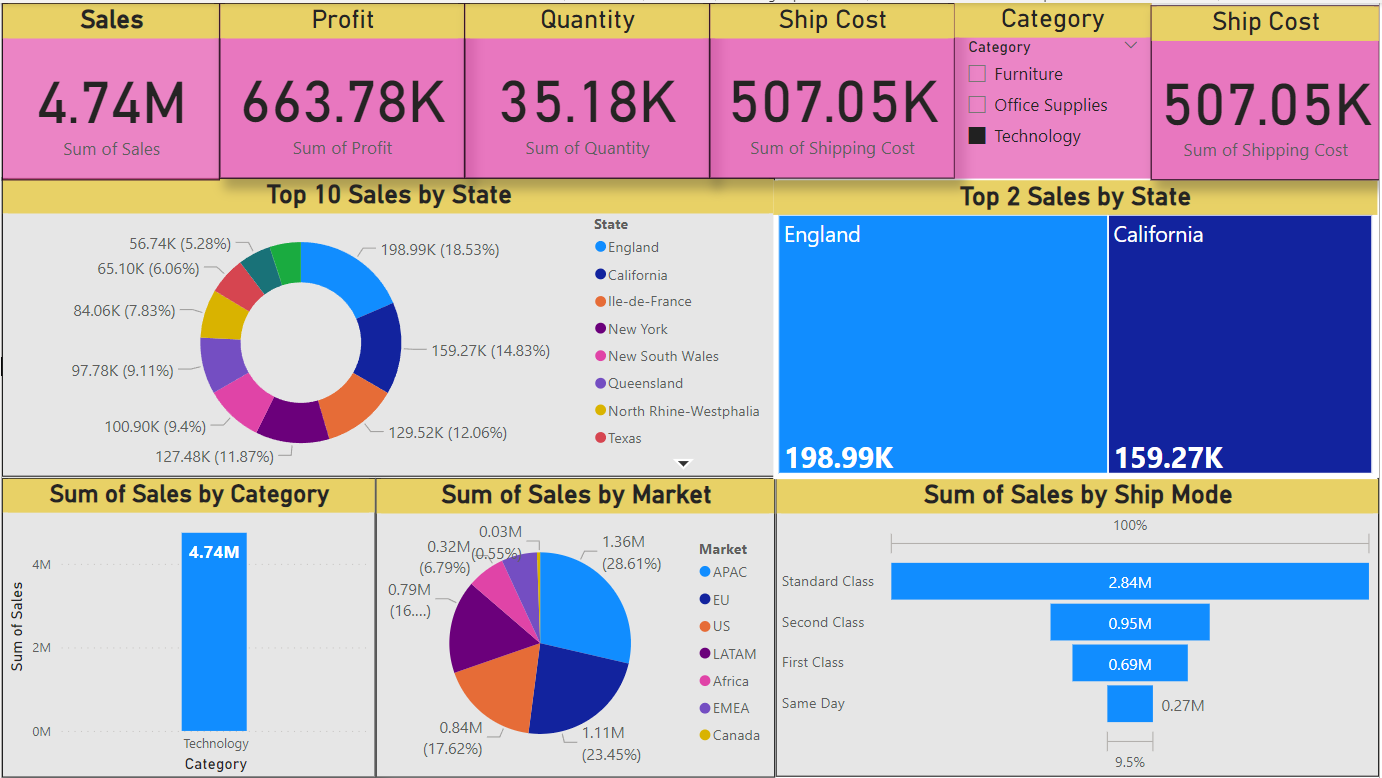

The page's visual inventory and layout, read from the dashboard file:
{"tool":"powerbi","page":{"name":"Page 1","canvas":[1280,720],"ordinal":0},"visuals":[{"type":"columnChart","fields":{"Category":["Orders.Category"],"Y":["Sum(Orders.Sales)"]},"box":[0,441.5,346.9,278.3],"z":0},{"type":"pieChart","fields":{"Category":["Orders.Market"],"Y":["Sum(Orders.Sales)"]},"box":[347.3,441.4,371.5,278.6],"z":1000},{"type":"funnel","fields":{"Category":["Orders.Ship Mode"],"Y":["Sum(Orders.Sales)"]},"box":[718.8,441.4,560.8,277.4],"z":2000},{"type":"donutChart","title":"Top 10 Sales by State","fields":{"Category":["Orders.State"],"Y":["Sum(Orders.Sales)"]},"box":[0,163.2,718.4,277.6],"z":3000},{"type":"treemap","title":"Top 2 Sales by State","fields":{"Group":["Orders.State"],"Values":["Sum(Orders.Sales)"]},"box":[717.1,164.5,561.8,277.6],"z":4000},{"type":"card","title":"Sales","fields":{"Values":["Sum(Orders.Sales)"]},"box":[0,0,202.6,164.5],"z":5000},{"type":"card","title":"Profit","fields":{"Values":["Sum(Orders.Profit)"]},"box":[202.6,0,227.6,163.2],"z":6000},{"type":"card","title":"Quantity","fields":{"Values":["Sum(Orders.Quantity)"]},"box":[430.3,0,227.6,163.2],"z":7000},{"type":"card","title":"Ship Cost","fields":{"Values":["Sum(Orders.Shipping Cost)"]},"box":[657.9,0,227.6,163.2],"z":8000},{"type":"slicer","title":"Category","fields":{"Values":["Orders.Category"]},"box":[885.5,0,182.9,163.2],"z":9000},{"type":"card","title":"Ship Cost","fields":{"Values":["Sum(Orders.Shipping Cost)"]},"box":[1067.8,2.3,212.6,162.7],"z":10000}]}

Visuals, with their boxes in screenshot pixels (x1, y1, x2, y2), scaled from the page's 1280x720 canvas onto the 1382x778 screenshot:
columnChart - Orders.Category x Sum(Orders.Sales): left=0, top=477, right=375, bottom=777
pieChart - Orders.Market x Sum(Orders.Sales): left=375, top=477, right=776, bottom=777
funnel - Orders.Ship Mode x Sum(Orders.Sales): left=776, top=477, right=1381, bottom=777
"Top 10 Sales by State" donutChart: left=0, top=176, right=776, bottom=476
"Top 2 Sales by State" treemap: left=774, top=178, right=1381, bottom=478
"Sales" card: left=0, top=0, right=219, bottom=178
"Profit" card: left=219, top=0, right=464, bottom=176
"Quantity" card: left=465, top=0, right=710, bottom=176
"Ship Cost" card: left=710, top=0, right=956, bottom=176
"Category" slicer: left=956, top=0, right=1154, bottom=176
"Ship Cost" card: left=1153, top=2, right=1381, bottom=178
